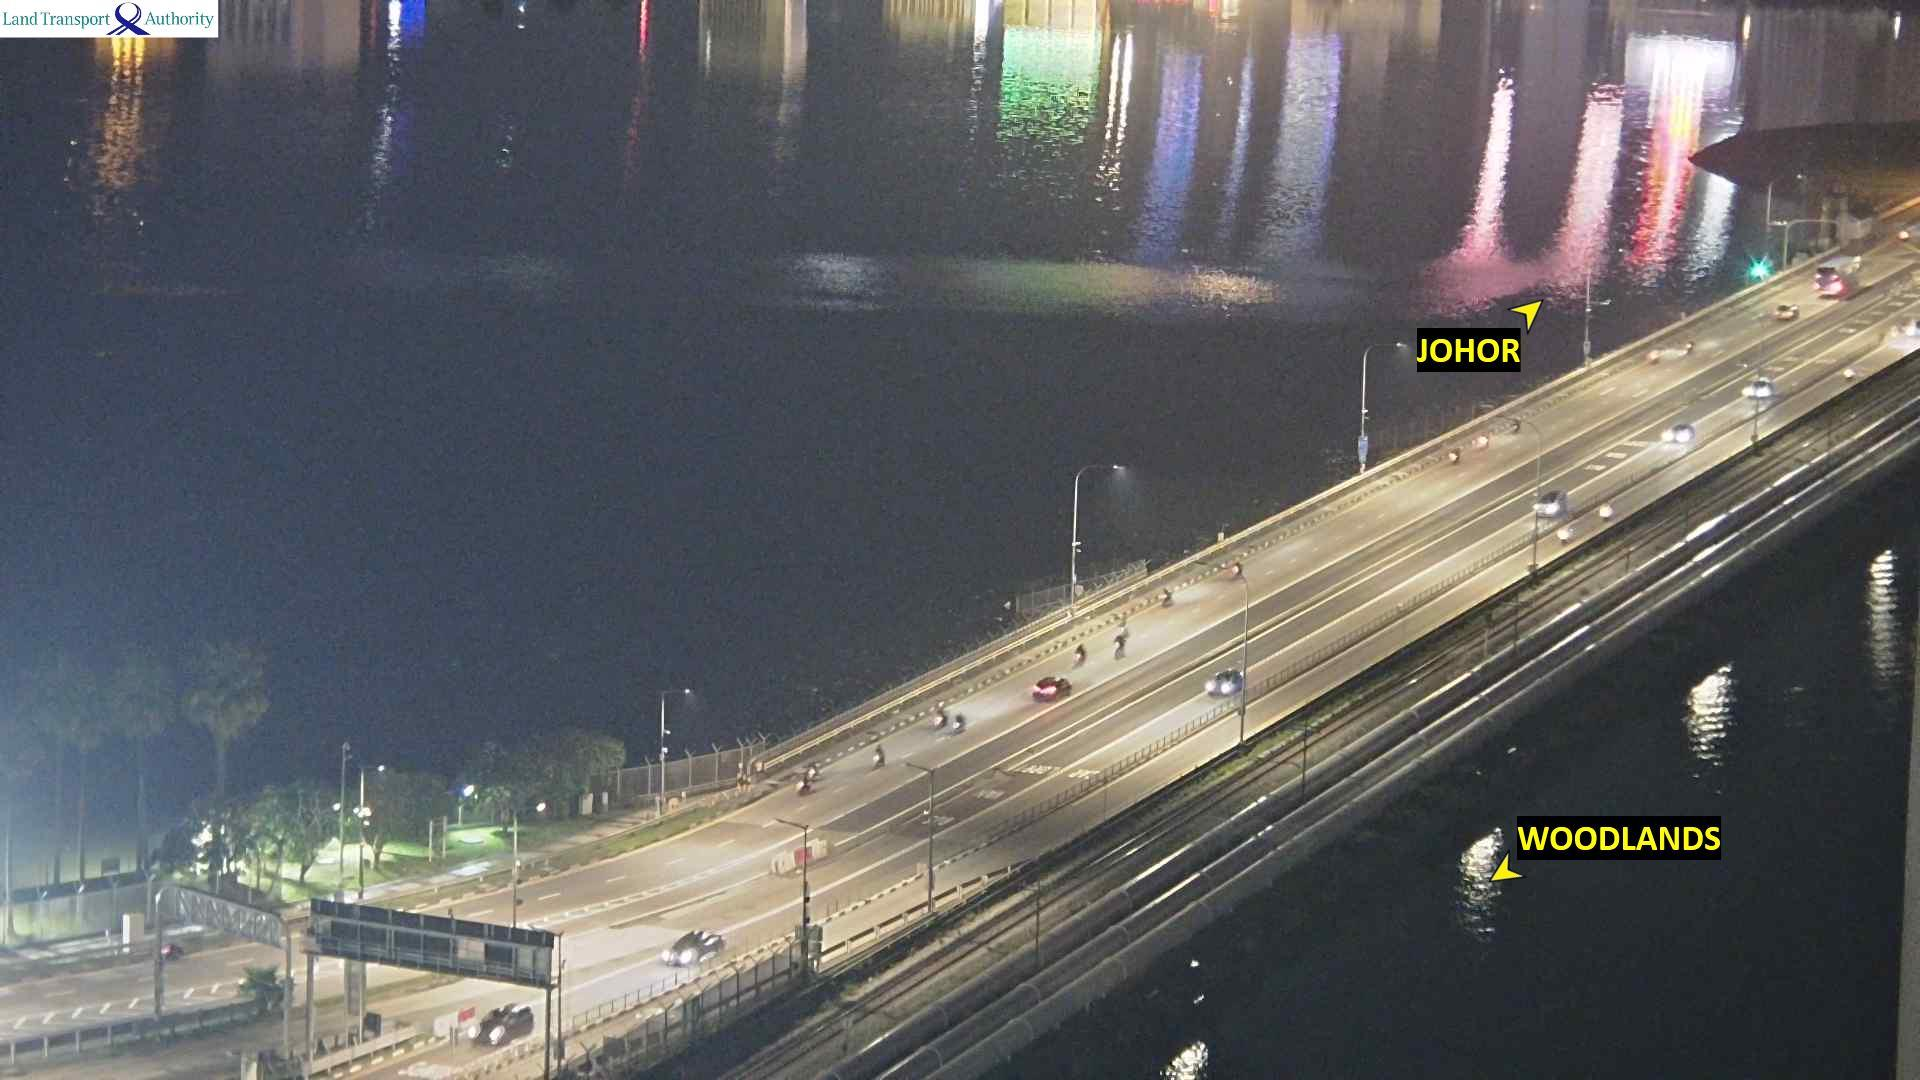vehicle-causeway-johor: (1816, 255, 1862, 296), (1032, 680, 1073, 703), (1775, 303, 1800, 320), (1114, 632, 1126, 659), (1073, 645, 1088, 666), (932, 705, 946, 727), (874, 742, 885, 768), (162, 946, 182, 960), (799, 777, 812, 793), (1163, 587, 1174, 604), (955, 715, 966, 732), (809, 761, 818, 779), (1478, 432, 1488, 447), (1687, 336, 1696, 352), (1512, 417, 1521, 433), (1649, 349, 1660, 362), (1451, 447, 1460, 462), (1234, 563, 1242, 576)
vehicle-causeway-singapore: (660, 930, 725, 967), (472, 1006, 532, 1044), (1742, 370, 1772, 401), (1208, 668, 1241, 696), (1534, 492, 1567, 518), (1660, 423, 1693, 444), (1843, 367, 1856, 382), (1600, 505, 1612, 520), (1559, 527, 1570, 543)
